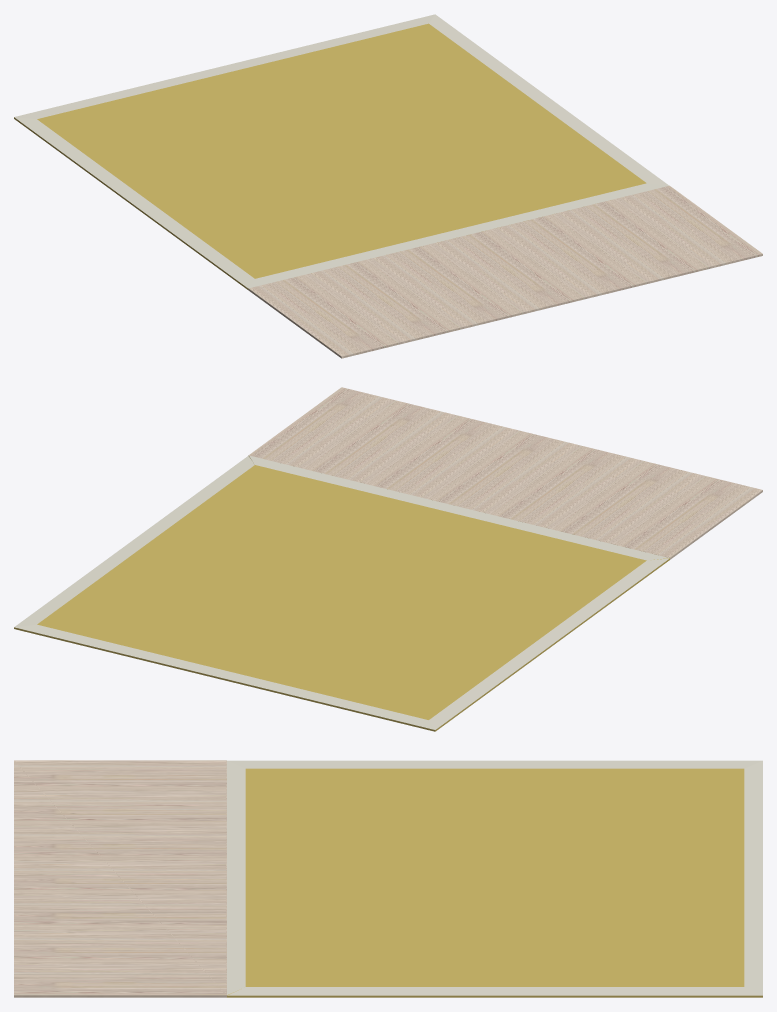
The model's file is lala.fbx.
3 views of the same model, one above another, from view 1: azimuth 30°, elevation 25°; view 2: azimuth 150°, elevation 25°; view 3: azimuth 270°, elevation 25° (orthographic). The views are drawn at different scales.
Visible parts, largest first — view 1: livingroom_floor1, livingroom_floor; view 2: livingroom_floor1, livingroom_floor; view 3: livingroom_floor1, livingroom_floor.
Part boxes in pixels (bbox=[...]): livingroom_floor1: bbox=[14, 14, 668, 289]; livingroom_floor: bbox=[248, 185, 762, 358]; livingroom_floor1: bbox=[14, 455, 669, 731]; livingroom_floor: bbox=[248, 387, 762, 559]; livingroom_floor1: bbox=[226, 760, 762, 997]; livingroom_floor: bbox=[14, 760, 226, 997].
Bounding box in the file's own units: 54.72 × 0.25 × 73.71.
